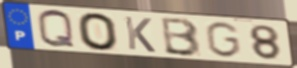8: (246, 24, 283, 61)
B: (161, 17, 204, 58)
G: (204, 21, 243, 59)
K: (122, 15, 158, 54)
O: (76, 11, 121, 52)
Q: (36, 8, 78, 50)
